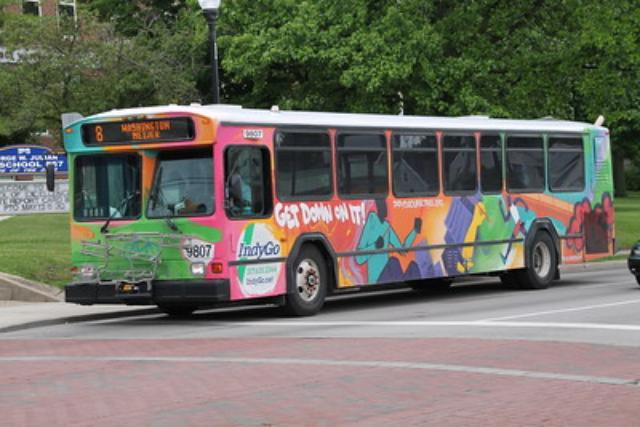bus: (64, 104, 616, 317)
